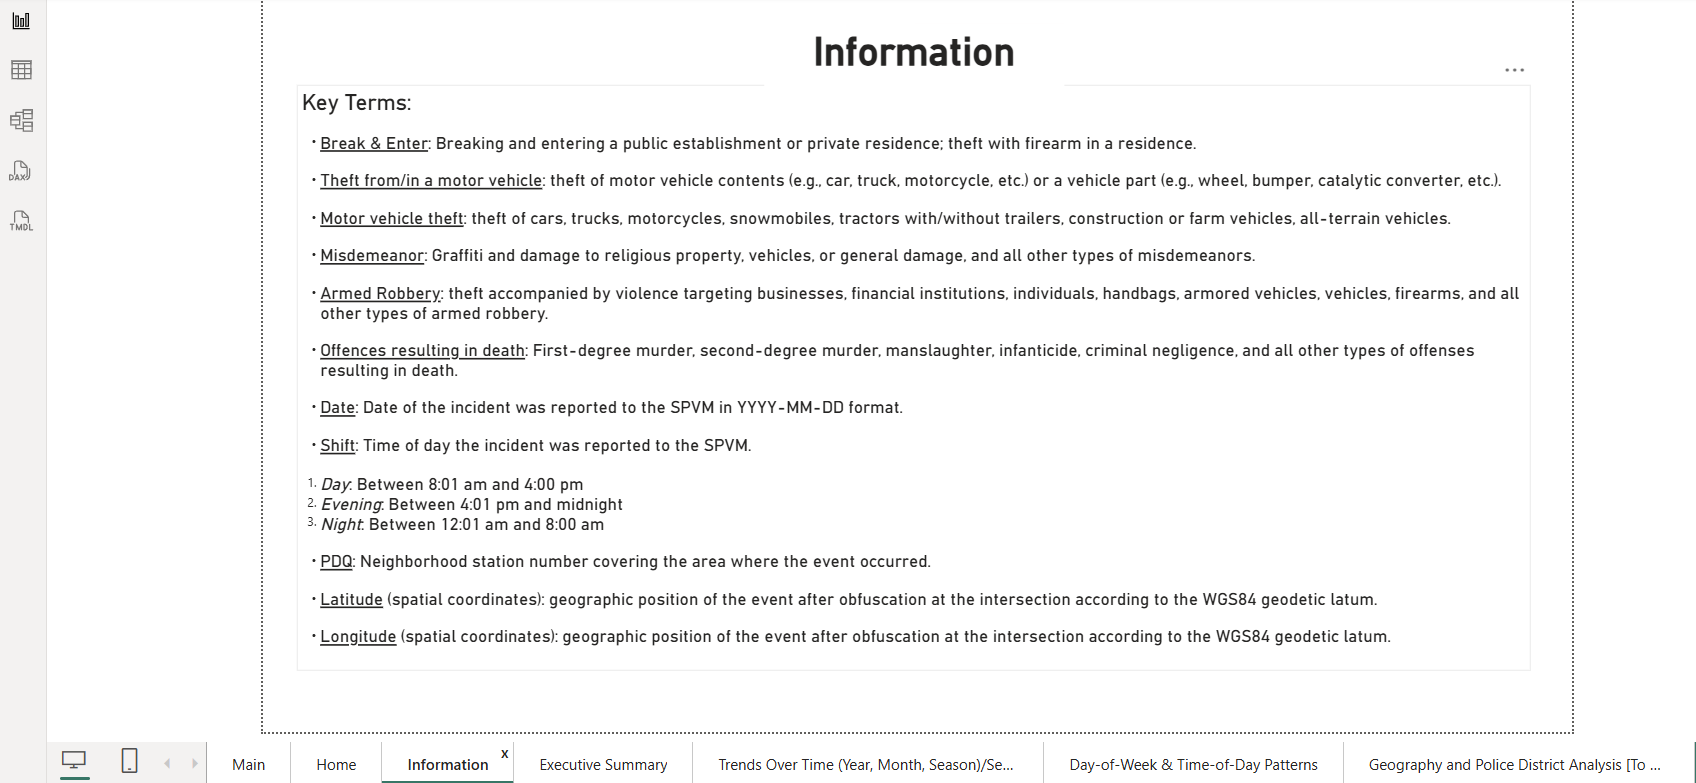

Layout of this report page (visuals, bound fields, positions):
{"tool":"powerbi","page":{"name":"Information ","canvas":[1280,720],"ordinal":2},"visuals":[{"type":"textbox","box":[32.9,86.4,1207.6,573.6],"z":0},{"type":"textbox","box":[489.9,27.4,293.7,72.7],"z":1000}]}

Visuals, with their boxes on the page's 1280x720 design canvas (x1, y1, x2, y2). These are canvas units, not pixel positions in the 1696x783 screenshot, which may show the page scaled, cropped or inside an application window:
textbox: <region>33, 86, 1240, 660</region>
textbox: <region>490, 27, 784, 100</region>
